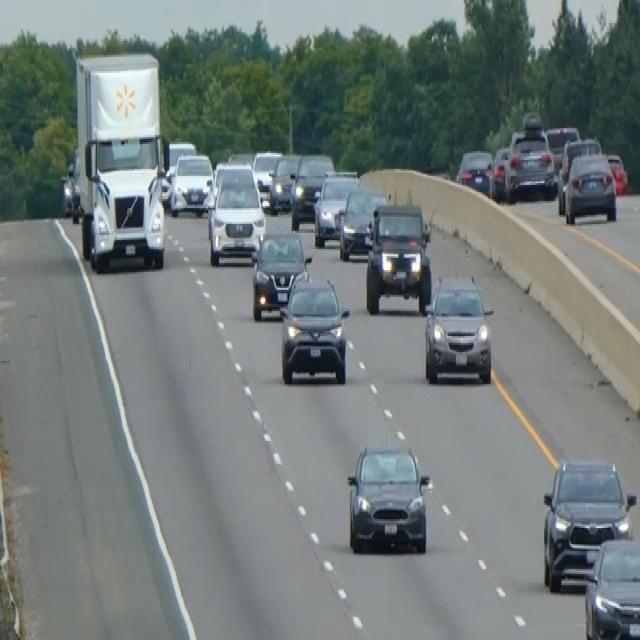car: (541, 453, 636, 592), (345, 441, 430, 555), (278, 268, 350, 386), (423, 272, 494, 384), (206, 167, 265, 265), (583, 535, 639, 638), (250, 228, 311, 320), (562, 149, 617, 224), (504, 125, 556, 202), (337, 185, 387, 261), (312, 169, 359, 247), (290, 151, 335, 229), (557, 135, 601, 210), (170, 151, 213, 215), (208, 158, 253, 206), (268, 151, 300, 213), (545, 122, 581, 172), (456, 147, 493, 195), (252, 148, 281, 205), (60, 147, 81, 220), (167, 137, 196, 178), (489, 144, 510, 199), (606, 151, 628, 194), (60, 165, 74, 217)
jeep: (363, 201, 433, 315)
lorry: (72, 50, 167, 272)
